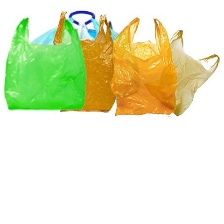plastic_bag: (0, 14, 87, 112), (109, 13, 182, 118), (52, 7, 121, 115), (163, 25, 221, 116)
